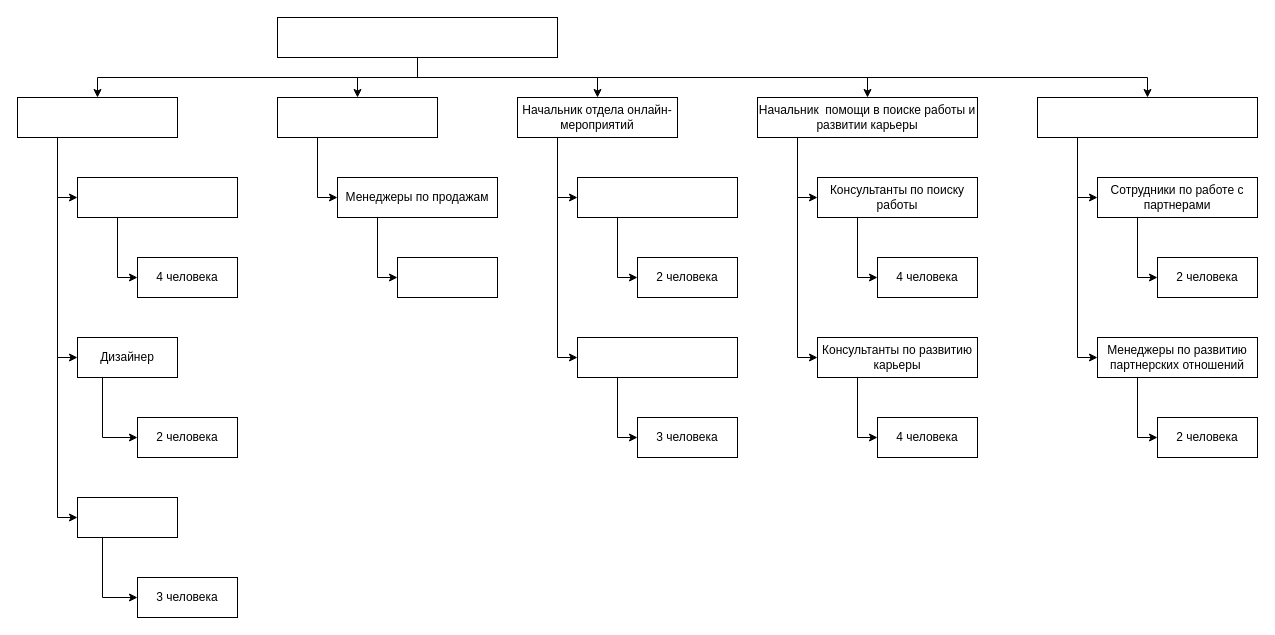
Image size: 1275x635. Some labels were removed from this diagram. The shapes that lost their labels are listed below. From the top down, each one's box as (x1, y1, x2, y2) in pixels, then its label:
(276, 16, 558, 58): Основатели онлайн-школы креативных профессий Логомашина учит
(16, 96, 178, 138): Начальник отдела маркетинга и рекламы
(276, 96, 438, 138): Начальник отдела продаж
(1036, 96, 1258, 138): Начальник отдела партнерских отношений
(76, 176, 238, 218): Менеджер по маркетингу
(576, 176, 738, 218): Организаторы мероприятий
(396, 256, 498, 298): 5 человек
(576, 336, 738, 378): Специалисты по оформлению вебинаров
(76, 496, 178, 538): Разработчик медиаплана
